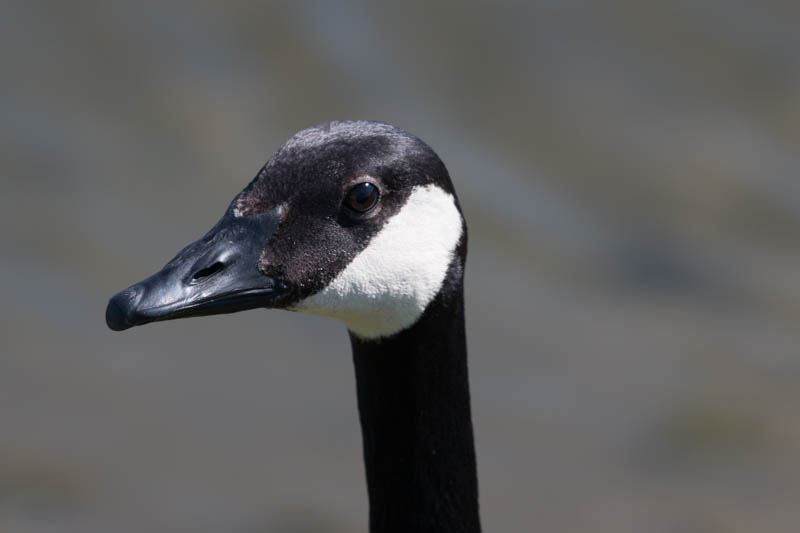goose-head: (104, 120, 467, 341)
